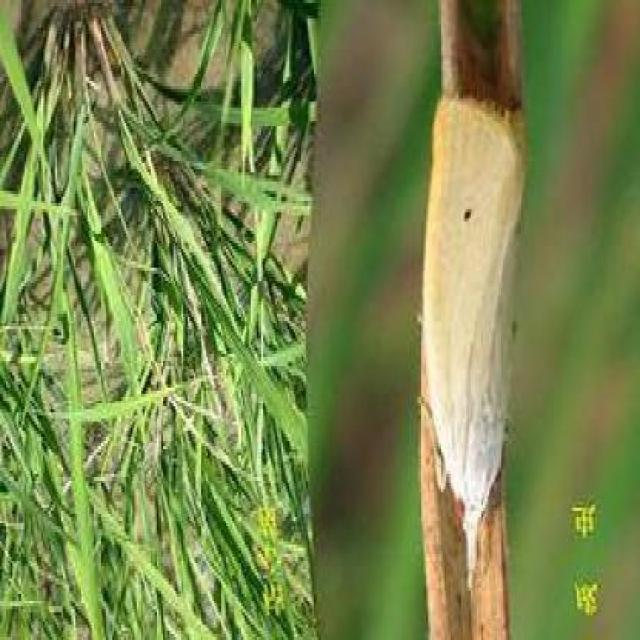stem-borer: (418, 81, 528, 593)
